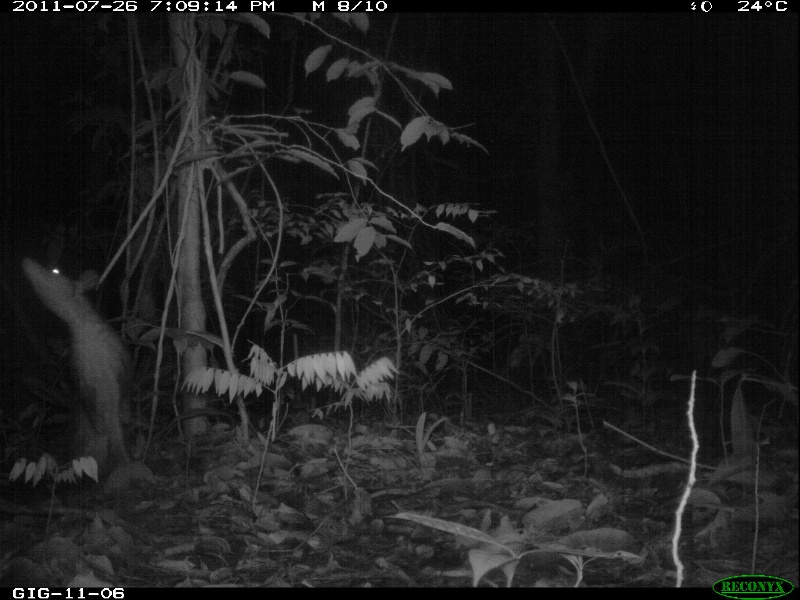opossum: (21, 251, 140, 479)
